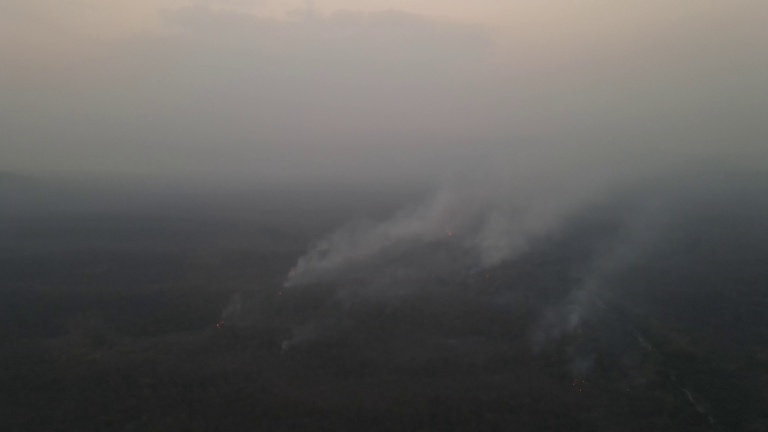fire: (565, 373, 590, 393), (209, 318, 229, 334), (445, 229, 455, 242)
smoke: (271, 128, 663, 380), (217, 289, 251, 340)
